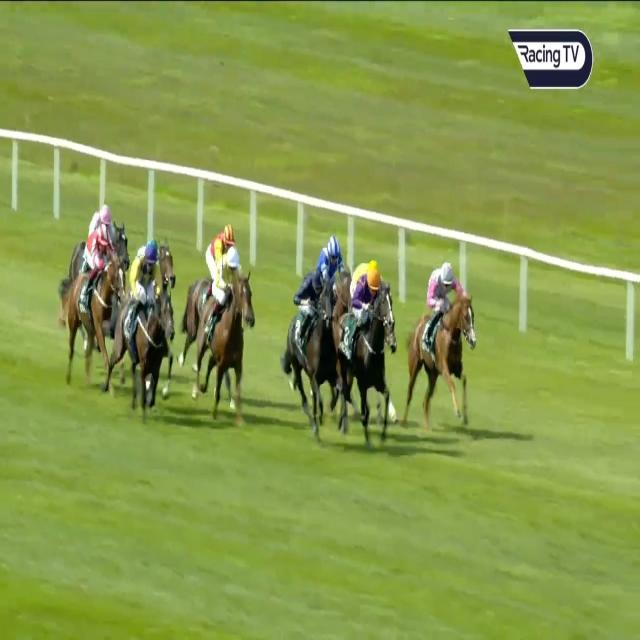horses-racing: (411, 260, 482, 418), (336, 268, 392, 434), (196, 249, 251, 412), (66, 226, 124, 379), (281, 267, 331, 426), (122, 239, 165, 417), (77, 197, 132, 260), (200, 214, 247, 278), (348, 248, 398, 308), (310, 237, 354, 280)
